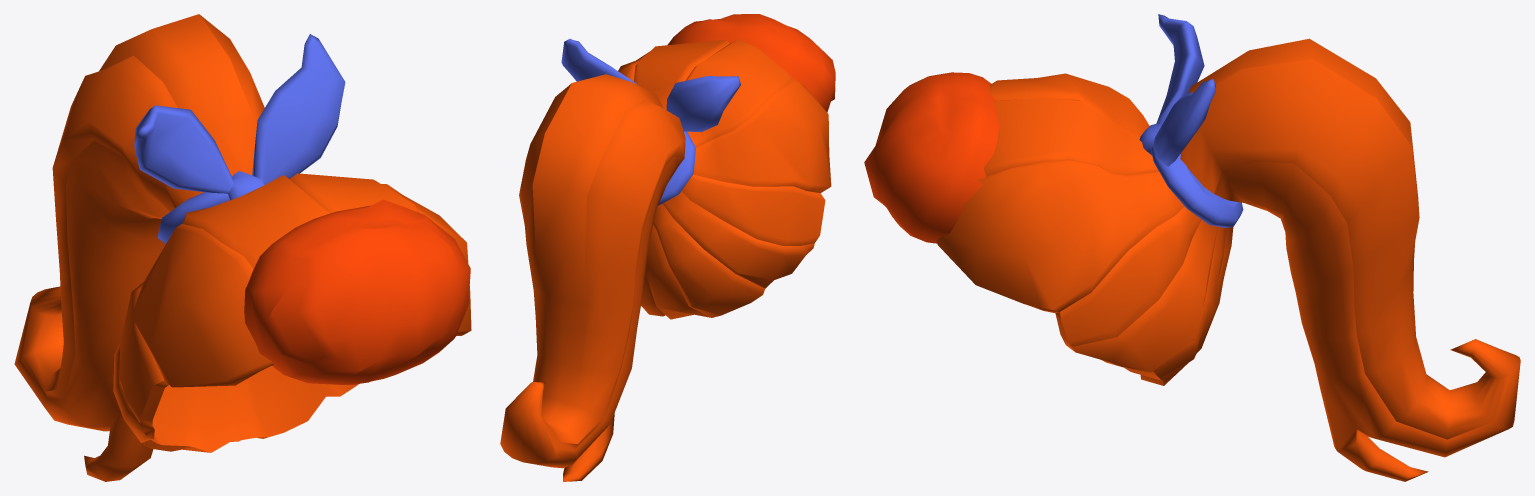
File: Hair_06_06.fbx
3 views of the same model, side by side, from view 1: azimuth 30°, elevation 25°; view 2: azimuth 150°, elevation 25°; view 3: azimuth 270°, elevation 25° (orthographic). The views are drawn at different scales.
Visible parts, largest first — view 1: Hair_06_06; view 2: Hair_06_06; view 3: Hair_06_06.
Part boxes in pixels (x1,y1,x2,y2): Hair_06_06: [14, 14, 471, 481]; Hair_06_06: [500, 14, 835, 481]; Hair_06_06: [864, 14, 1520, 481].
Size of the model in its own units: 39.37 by 59.41 by 78.66.
